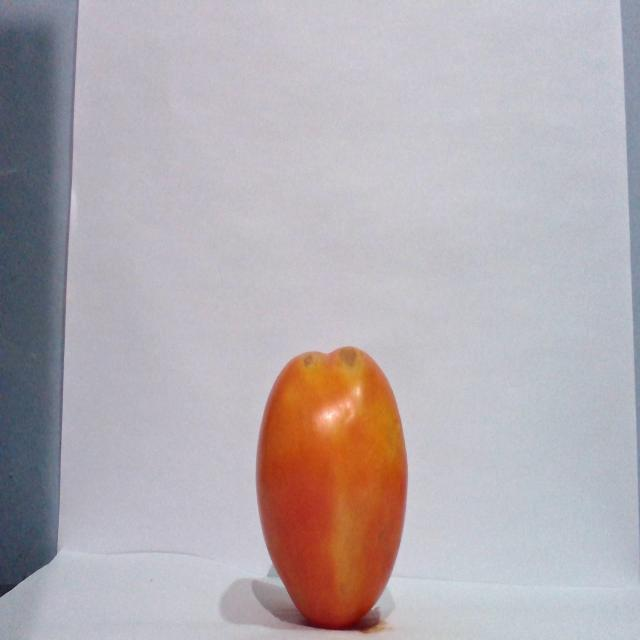Red: (254, 345, 409, 629)
